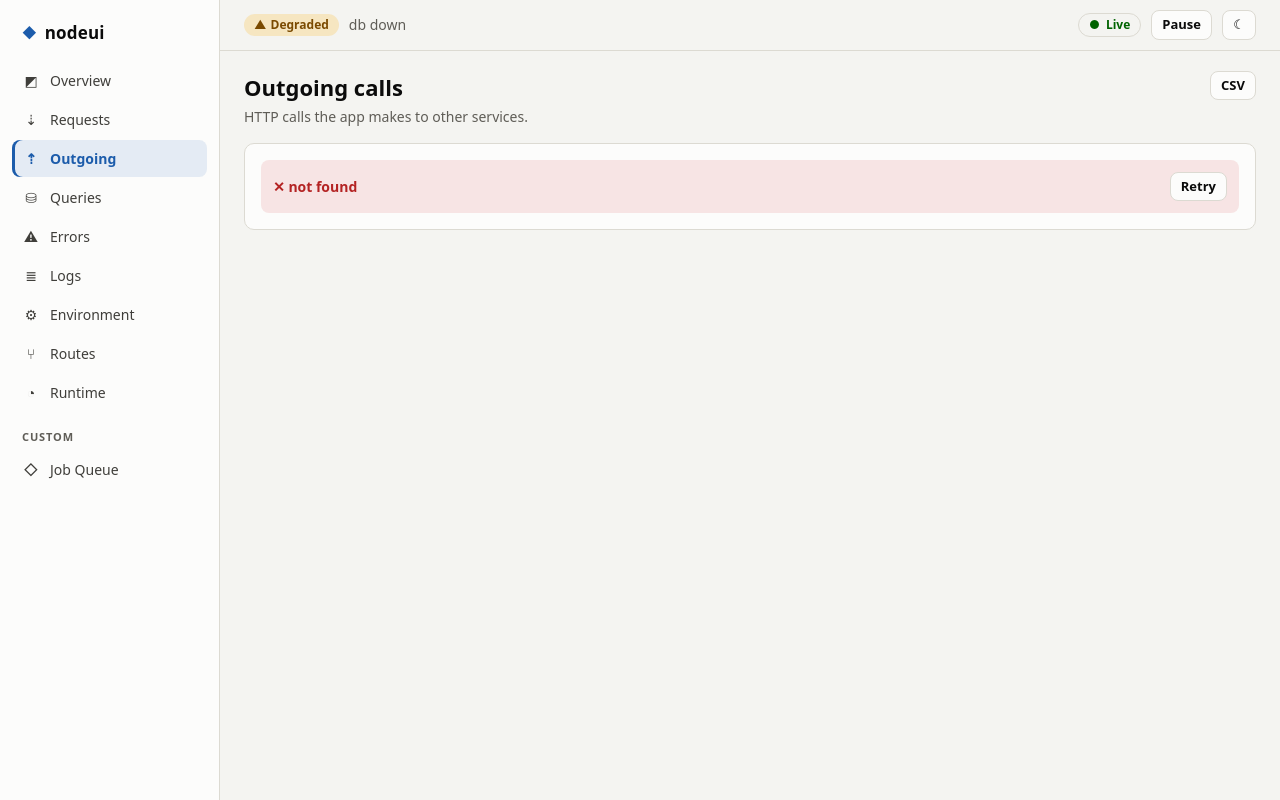
Test: Outgoing view › shows an error state with Retry and recovers
Step 1. Click the button "Retry" → (1198, 186), box [1170,172,1227,201]
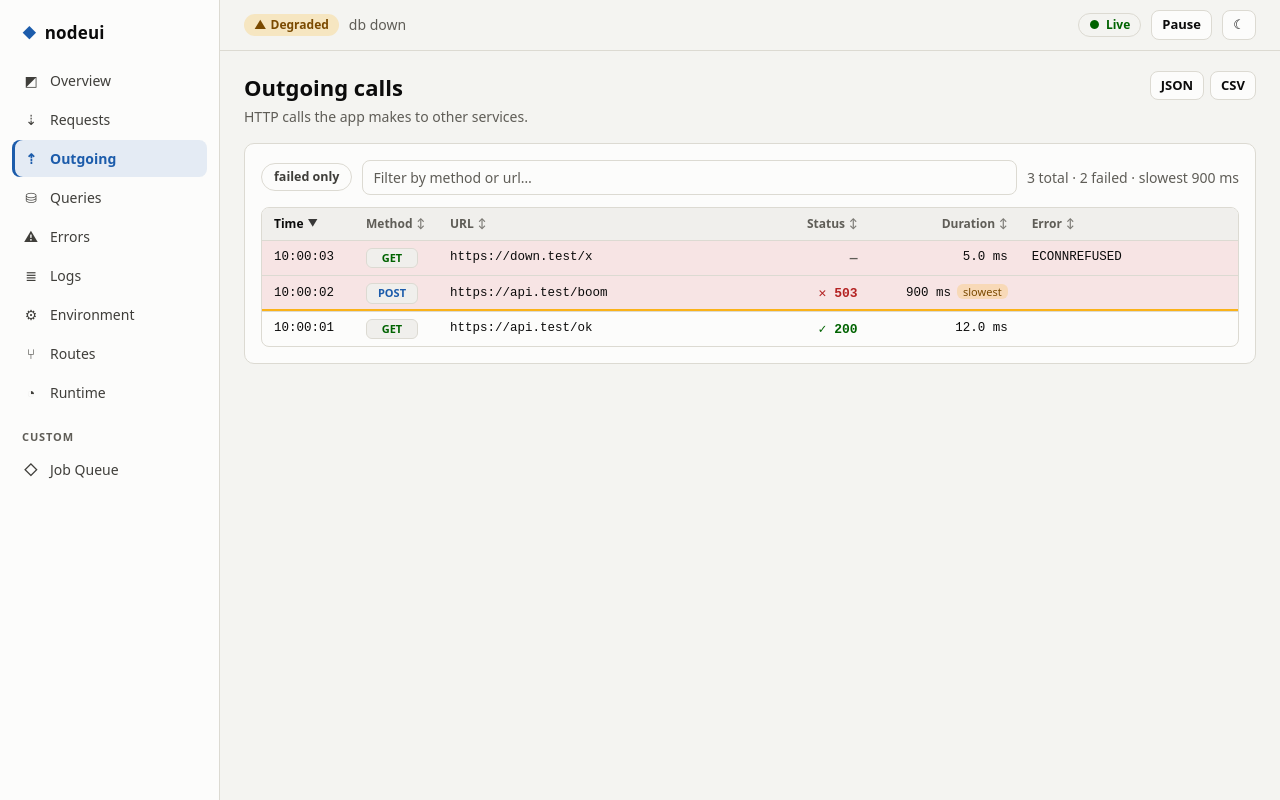
Expected: the text "https://api.test/ok" is shown, [438,312,786,346]
